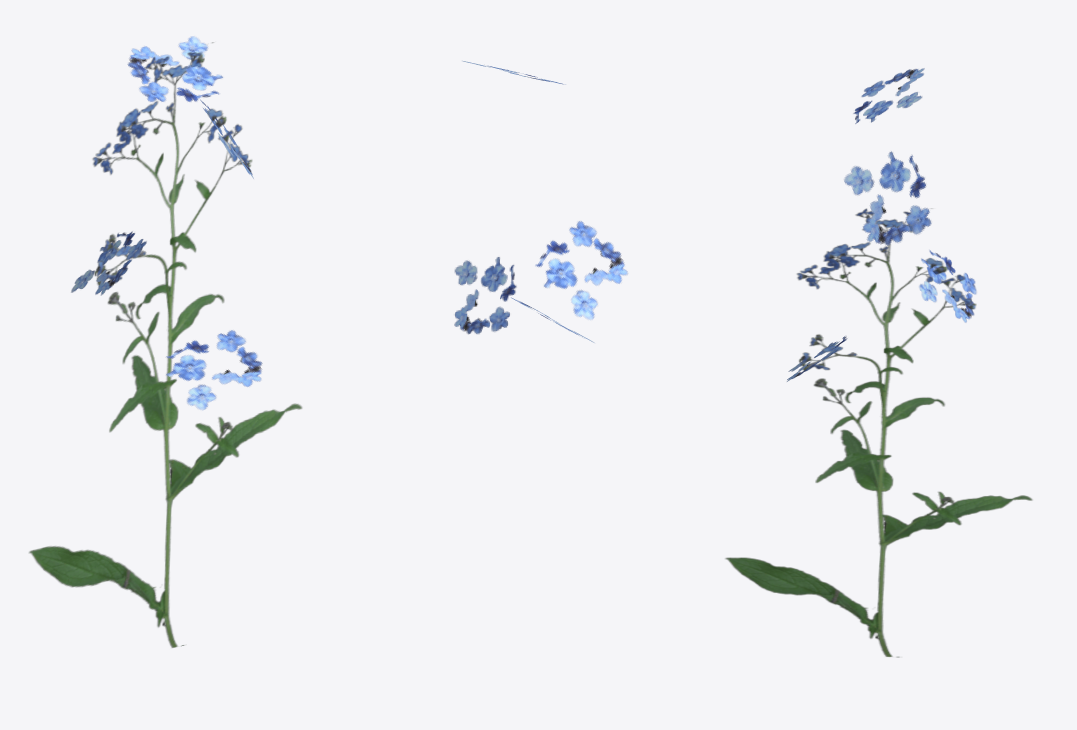
The model's file is Flower_3.glb.
3 renders of one model, left to right at view 1: azimuth 30°, elevation 25°; view 2: azimuth 150°, elevation 25°; view 3: azimuth 270°, elevation 25°, orthographic. The views are drawn at different scales.
Parts seen in each view (by area): view 1: Flower3.png__, Flower3F.png__; view 2: Flower3F.png__; view 3: Flower3.png__, Flower3F.png__.
Part boxes in pixels (<box>): Flower3.png__: <box>29,42,302,647</box>; Flower3F.png__: <box>71,36,262,410</box>; Flower3F.png__: <box>454,60,628,342</box>; Flower3.png__: <box>725,208,1032,657</box>; Flower3F.png__: <box>787,68,976,381</box>.
Size of the model in its own units: 1.15 by 2.08 by 1.15.
2 materials, 2 textured.
